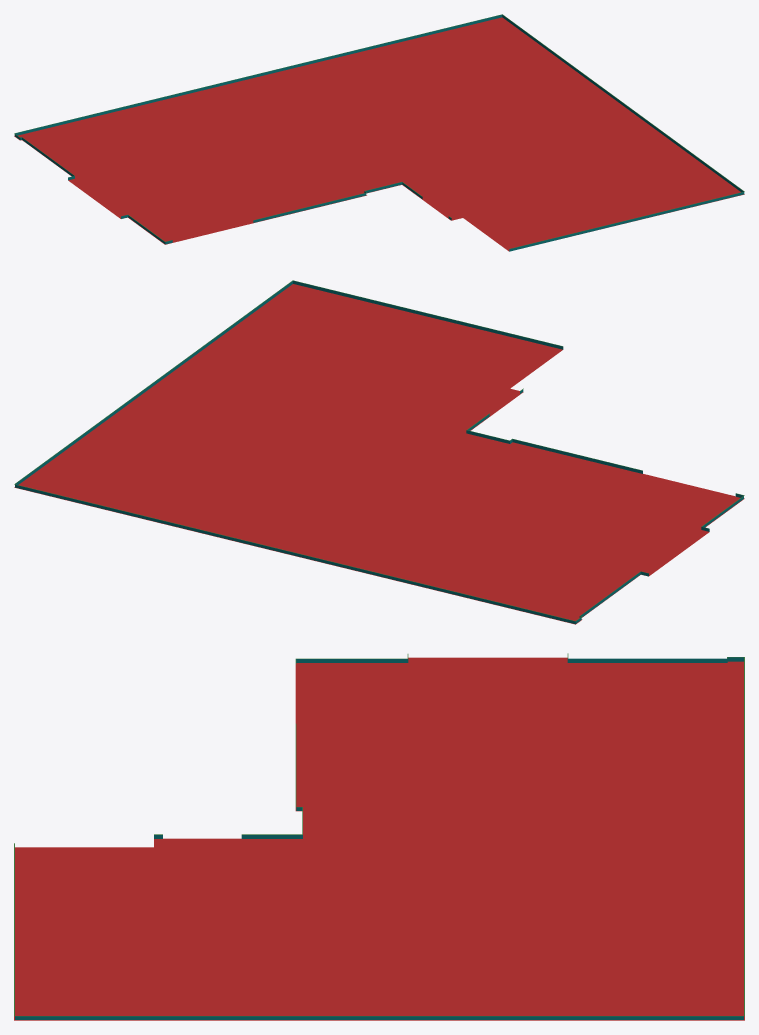
Rendered from SM_Floor_01.fbx.
The picture shows the model from 3 angles, top to bottom: view 1: azimuth 30°, elevation 25°; view 2: azimuth 150°, elevation 25°; view 3: azimuth 270°, elevation 25°; orthographic projection. The views are drawn at different scales.
Parts seen in each view (by area): view 1: SM_Floor_01; view 2: SM_Floor_01; view 3: SM_Floor_01.
Part boxes in pixels (left/top/right/bottom): SM_Floor_01: left=14, top=14, right=744, bottom=251; SM_Floor_01: left=14, top=280, right=744, bottom=624; SM_Floor_01: left=14, top=653, right=744, bottom=1020.
Size of the model in its own units: 941 by 5 by 801.
